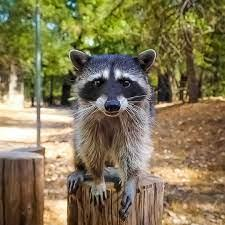raccoon: (57, 42, 166, 225)
